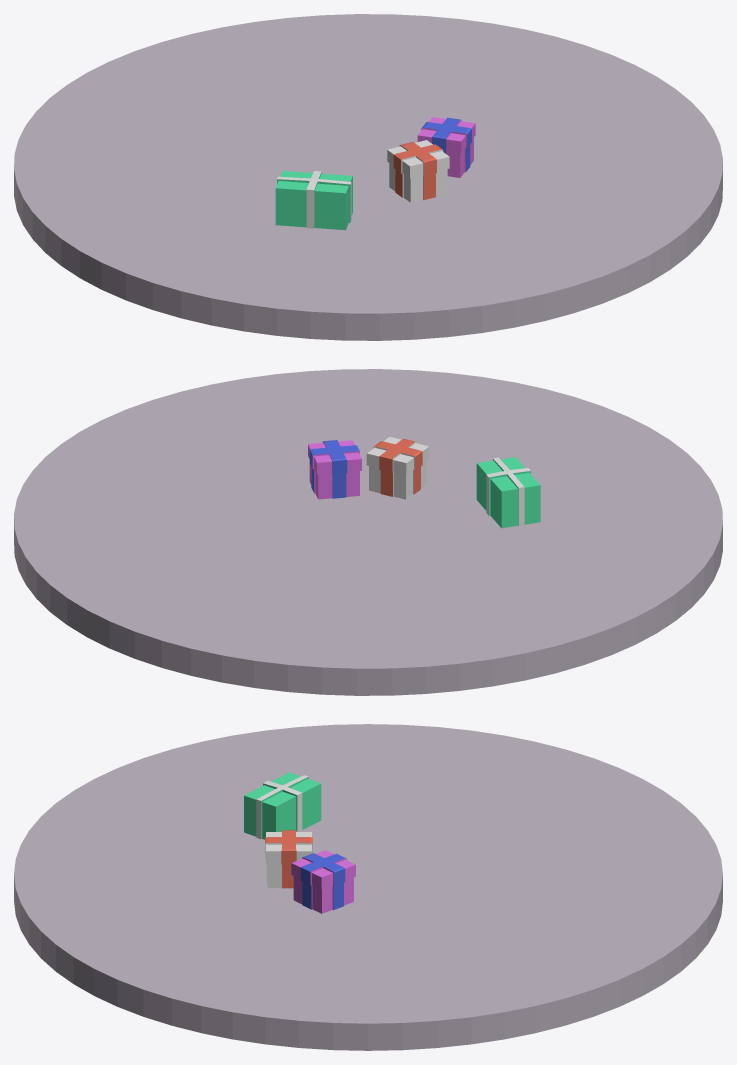
The picture shows the model from 3 angles, top to bottom: view 1: azimuth 30°, elevation 25°; view 2: azimuth 150°, elevation 25°; view 3: azimuth 270°, elevation 25°; orthographic projection.
Visible parts, largest first — view 1: Cylinder.001, Cube.005, Cube.004, Cube.003; view 2: Cylinder.001, Cube.005, Cube.004, Cube.003; view 3: Cylinder.001, Cube.005, Cube.003, Cube.004.
Boxes of the visible parts, x1,y1,x2,y2 form: Cylinder.001: (14, 14, 722, 340); Cube.005: (275, 171, 352, 230); Cube.004: (387, 140, 449, 202); Cube.003: (417, 117, 475, 177); Cylinder.001: (14, 369, 722, 695); Cube.005: (476, 457, 540, 528); Cube.004: (366, 437, 429, 499); Cube.003: (308, 440, 361, 499); Cylinder.001: (14, 724, 722, 1050); Cube.005: (244, 772, 321, 839); Cube.003: (291, 850, 355, 913); Cube.004: (265, 830, 312, 888).
Size of the model in its own units: 10.96 by 1.13 by 10.96.
